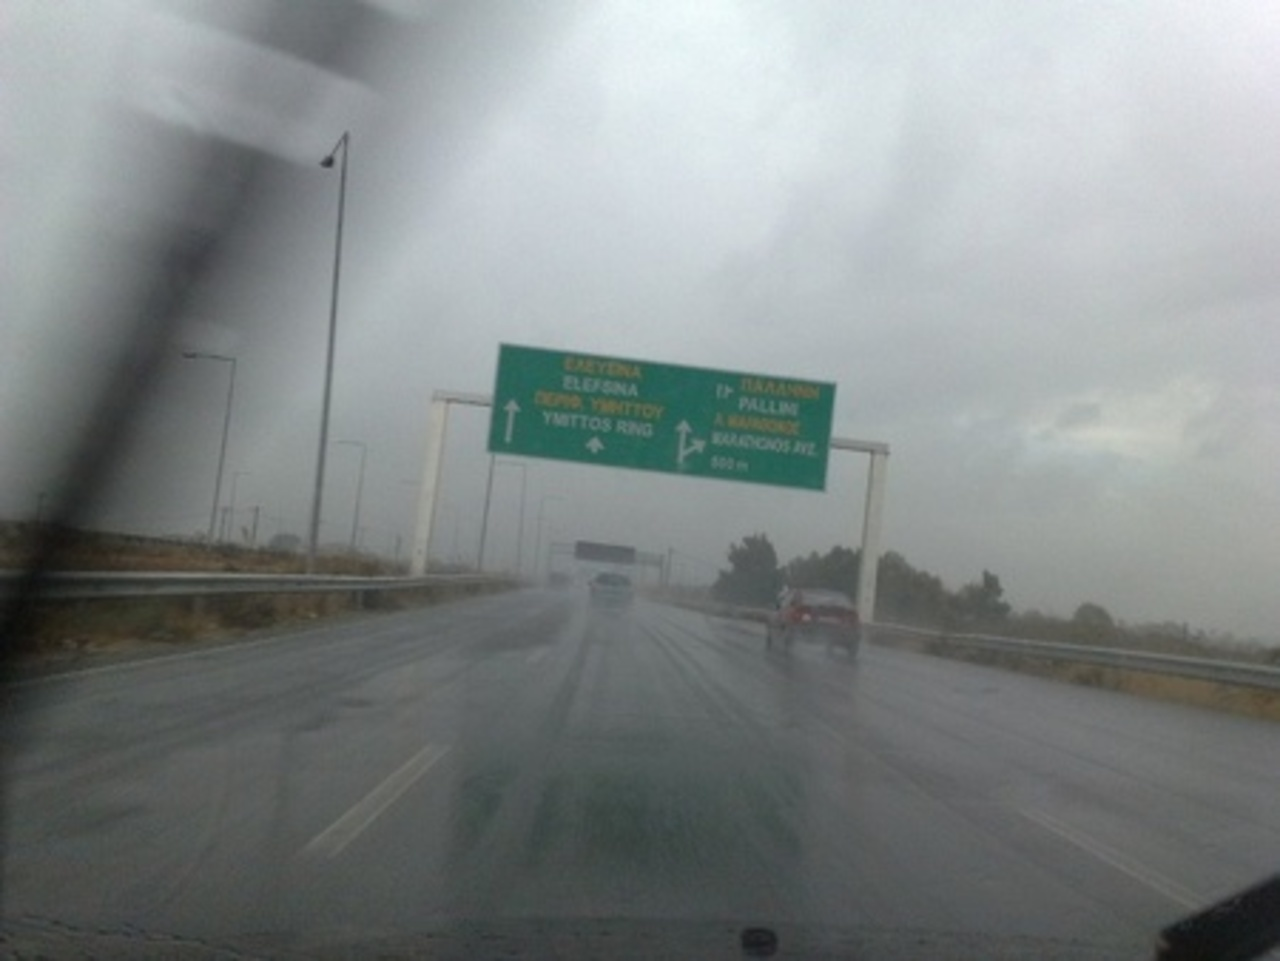car: (760, 574, 861, 651), (583, 567, 628, 605)
